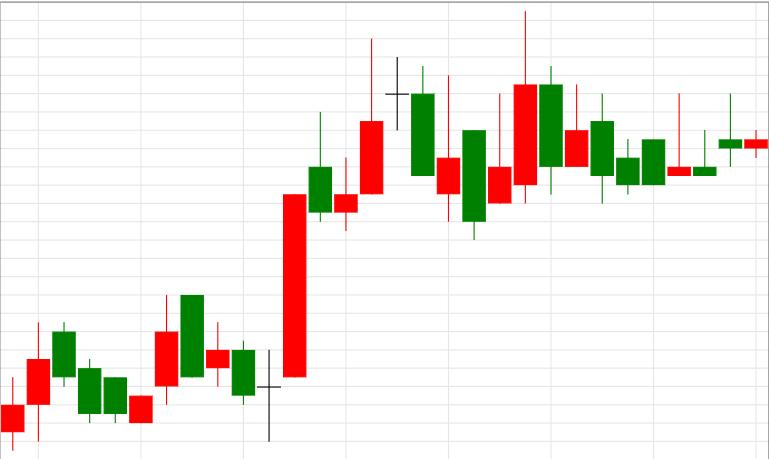evening_star_fall: (258, 39, 434, 442)
